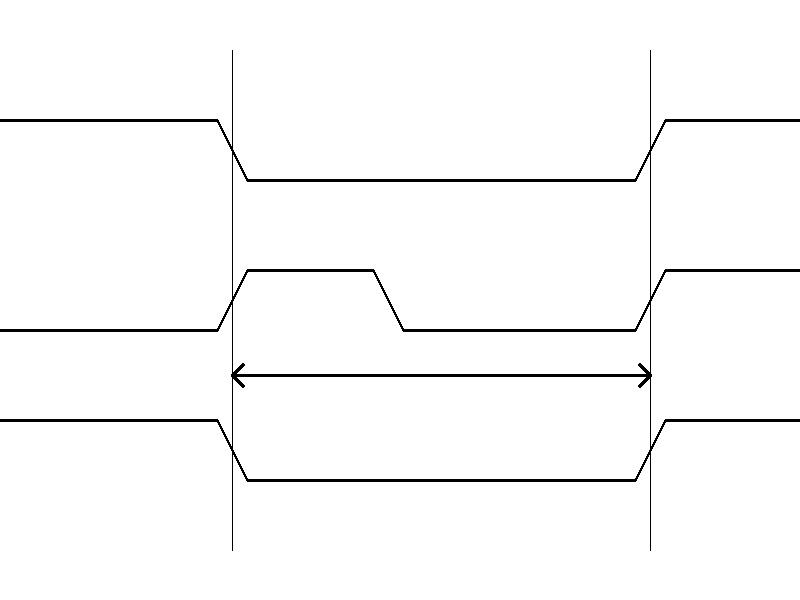double_arrow: (232, 360, 650, 390)
